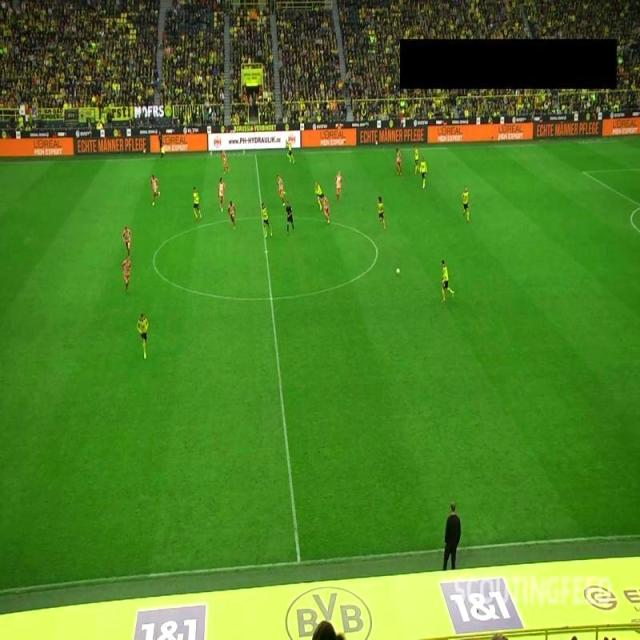bigarea_top_inner: (578, 166, 588, 177)
halfcircle_bottom: (266, 293, 277, 304)
halfcircle_top: (256, 212, 268, 224)
midline_bottom_intersection: (292, 553, 308, 570)
midline_top_intersection: (250, 148, 261, 159)
